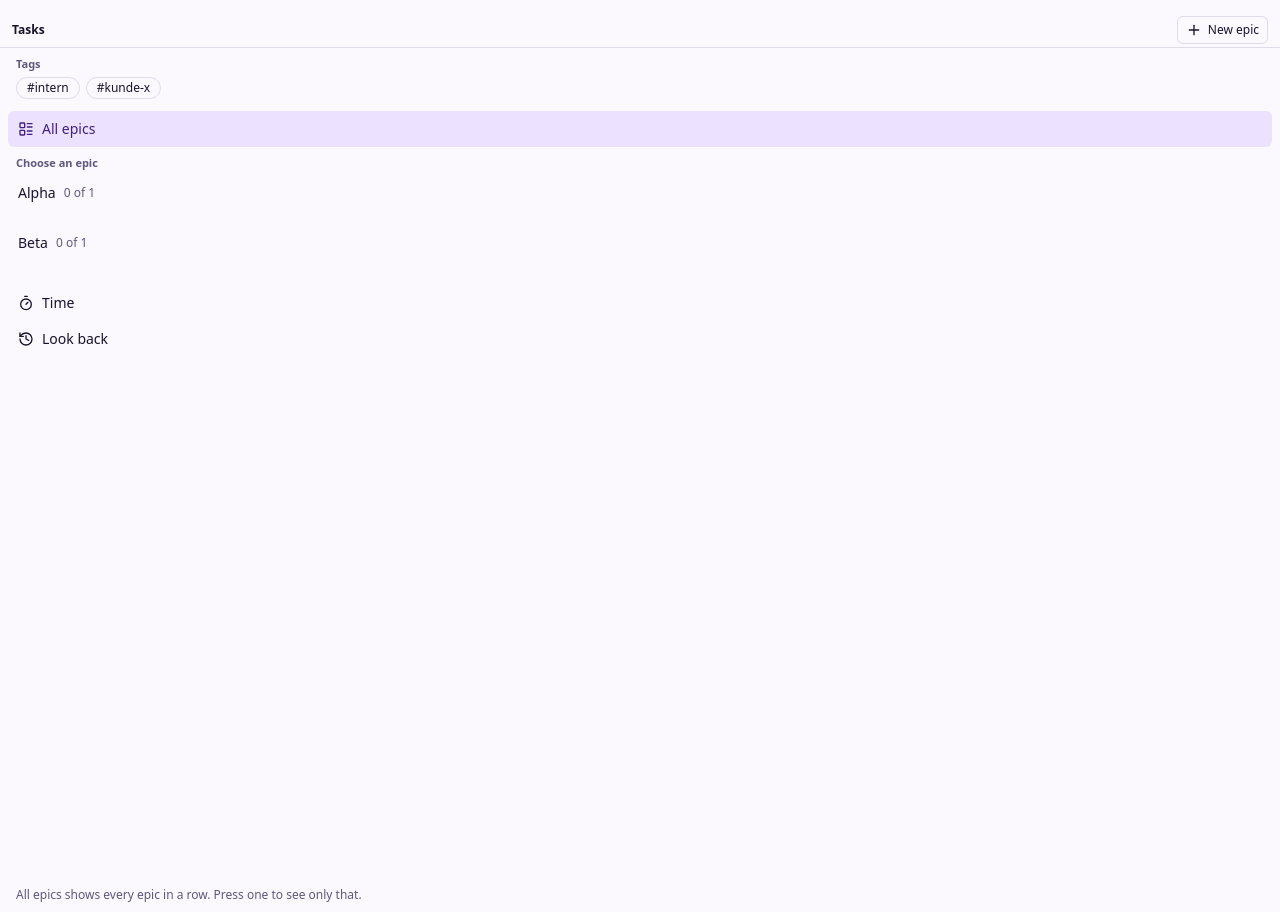
Test: TasksPanel tag filter › lists the tags of the epics and tasks, and a tag narrows the areas to what has it
Expected: the list named "Show only a tag" shows "#kunde-x", [16,77,161,99]
Expected: the list named "Show only a tag" shows "#intern", [16,77,161,99]
Click the button "#kunde-x".
click(124, 88)  # box [86,77,161,99]
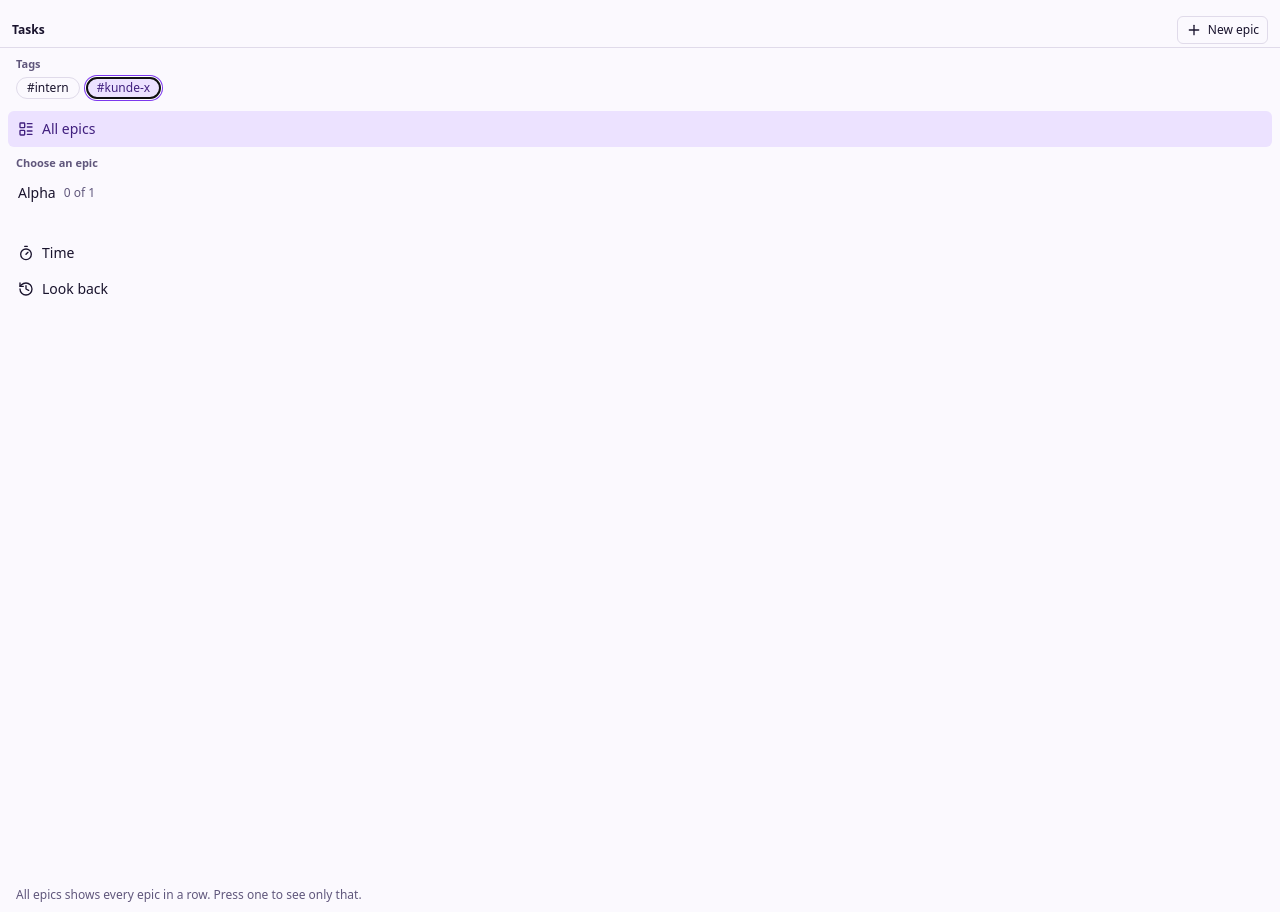
Expected: the button "Alpha 0 of 1" is shown, [8,175,1272,223]
Now the button "Beta" is gone
Click the button "#intern".
click(48, 88)  # box [16,77,80,99]
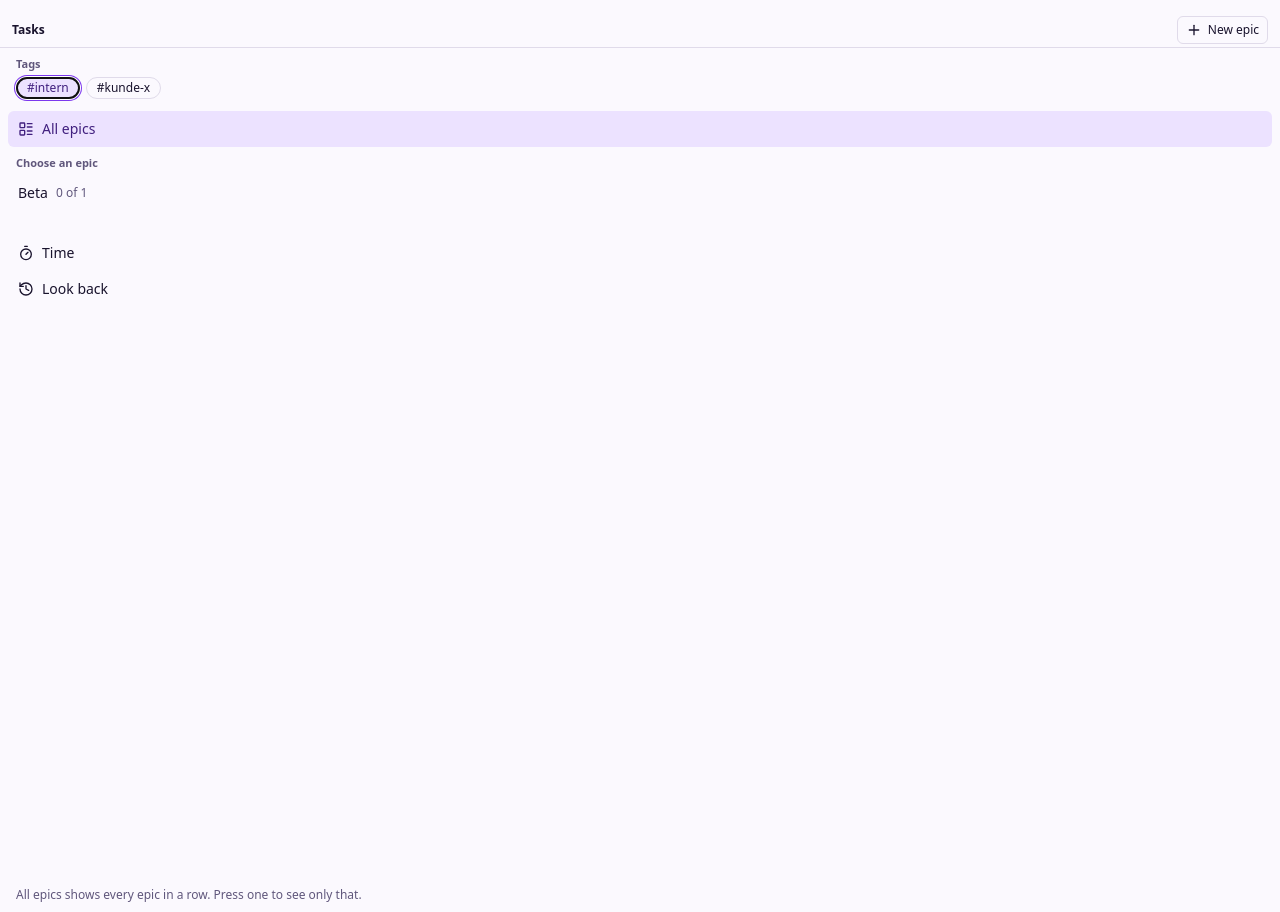
Now the button "Beta 0 of 1" is shown, box [8,175,1272,223]
Now the button "Alpha" is gone
Click the button "#intern".
click(48, 88)  # box [16,77,80,99]
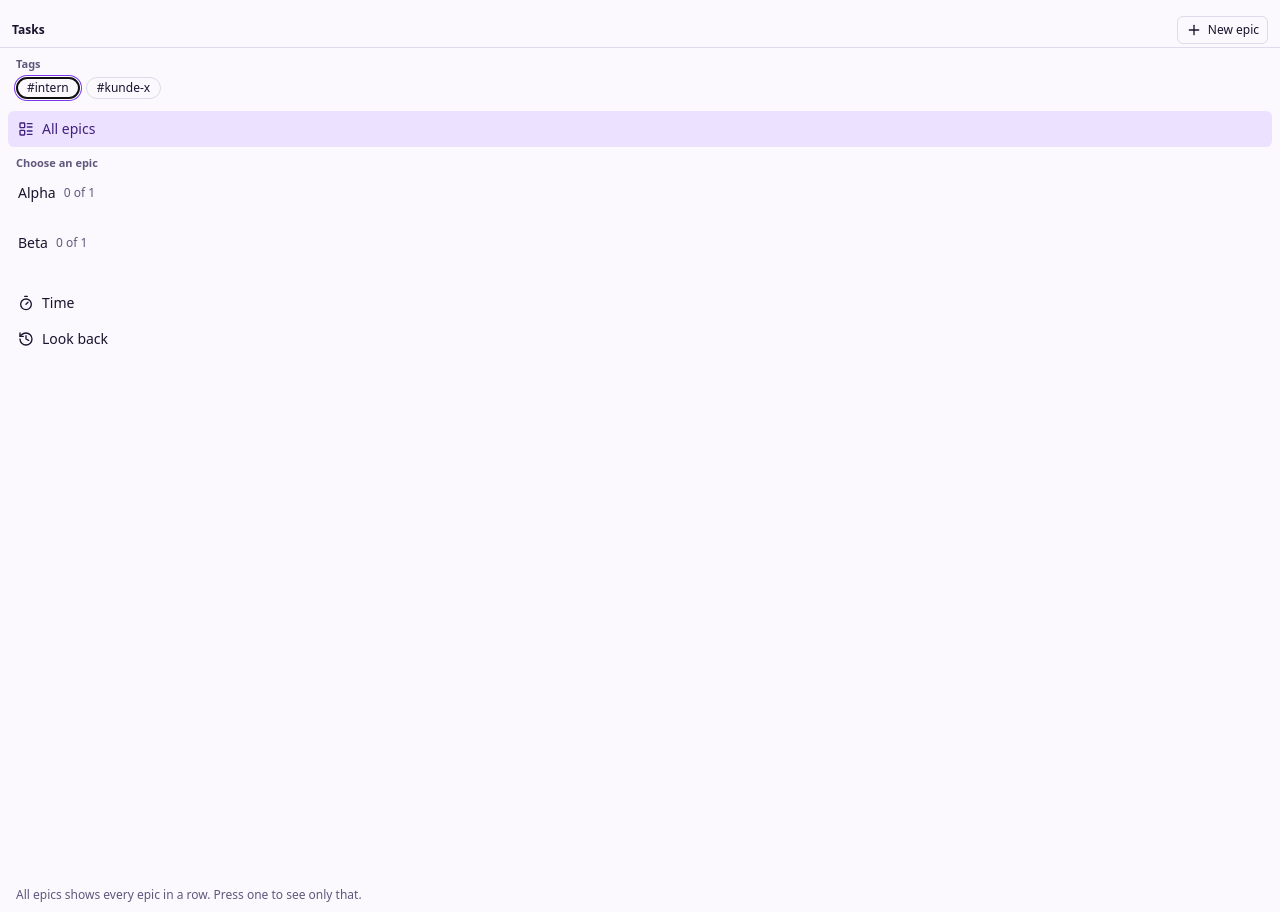
Now the button "Alpha 0 of 1" is shown, box [8,175,1272,223]
